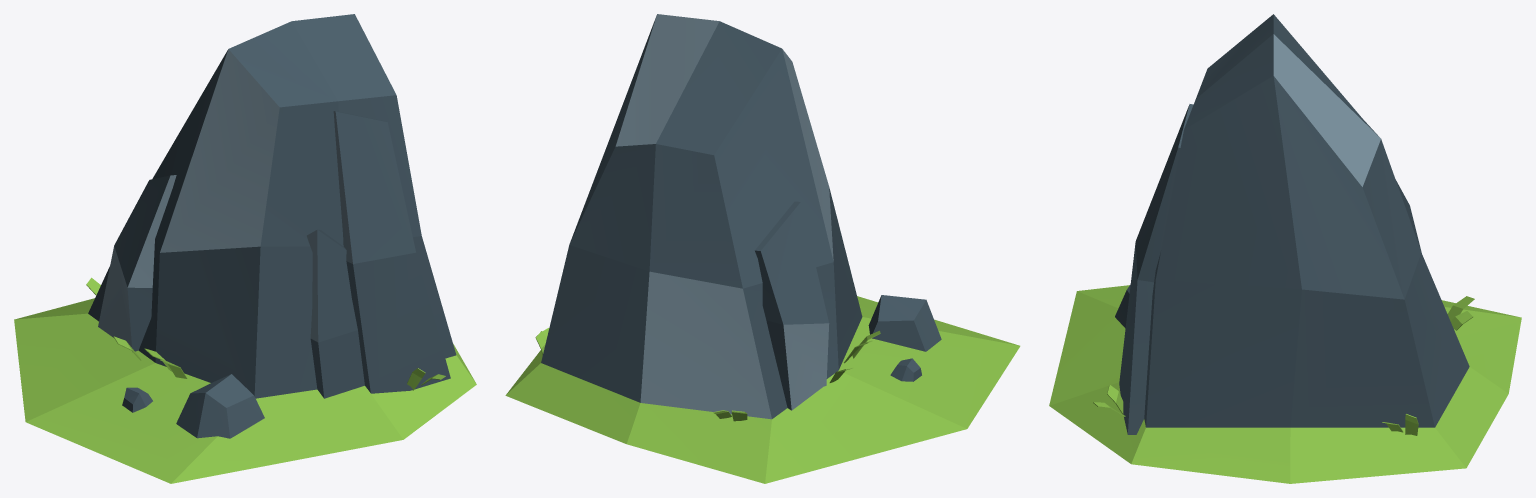
Rendered from boulder.glb.
3 views of the same model, side by side, from view 1: azimuth 30°, elevation 25°; view 2: azimuth 150°, elevation 25°; view 3: azimuth 270°, elevation 25° (orthographic). The views are drawn at different scales.
Visible parts, largest first — view 1: boulder_01_Cube.009; view 2: boulder_01_Cube.009; view 3: boulder_01_Cube.009.
Part boxes in pixels (x1,y1,x2,y2): boulder_01_Cube.009: (14,14,476,483); boulder_01_Cube.009: (505,14,1020,483); boulder_01_Cube.009: (1049,14,1521,483).
Size of the model in its own units: 250 by 198 by 230.
